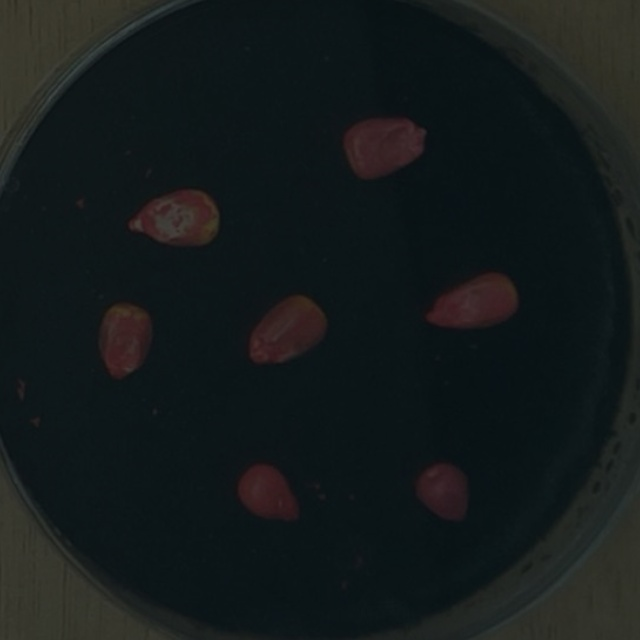Zea mays: (237, 285, 336, 374), (417, 262, 529, 336), (119, 181, 227, 255), (336, 109, 436, 188), (91, 292, 162, 389), (229, 455, 308, 530), (406, 452, 477, 532)
